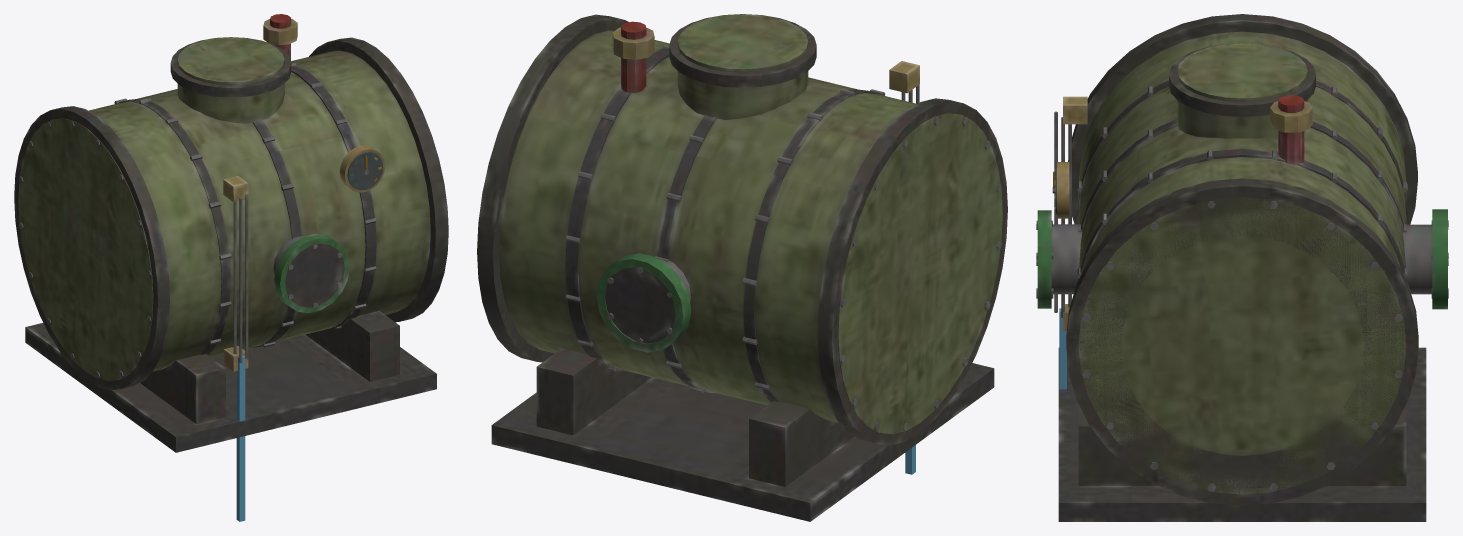
Rendered from feBoilerDrum.glb.
3 renders of one model, left to right at view 1: azimuth 30°, elevation 25°; view 2: azimuth 150°, elevation 25°; view 3: azimuth 270°, elevation 25°, orthographic. The views are drawn at different scales.
Parts seen in each view (by area): view 1: feBoilerDrum_Base, FeSurface_r0.50_Level; view 2: feBoilerDrum_Base; view 3: feBoilerDrum_Base, FeSurface_r0.50_Level.
Boxes of the visible parts, box(x1,y1,x2,y2) form: feBoilerDrum_Base: box(14, 14, 448, 452); FeSurface_r0.50_Level: box(236, 355, 245, 521); feBoilerDrum_Base: box(477, 14, 1007, 521); feBoilerDrum_Base: box(1036, 14, 1448, 521); FeSurface_r0.50_Level: box(1059, 308, 1066, 389).
Bounding box in the file's own units: 1.01 × 1.32 × 1.01.
Materials: 2 (1 with a texture image).
